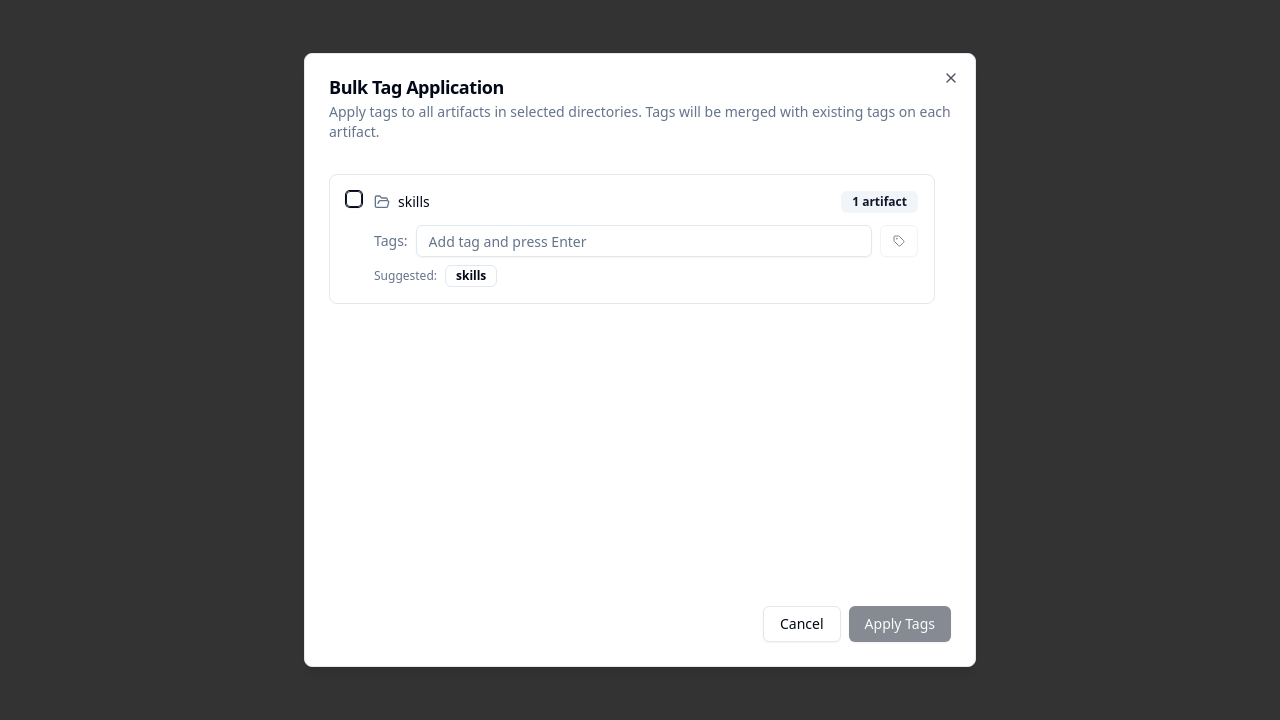
Scenario: Bulk Tag Workflow Integration › Keyboard Navigation › supports Enter key to add tags
Click the checkbox named "select skills" at (354, 199), box [346, 191, 362, 207]
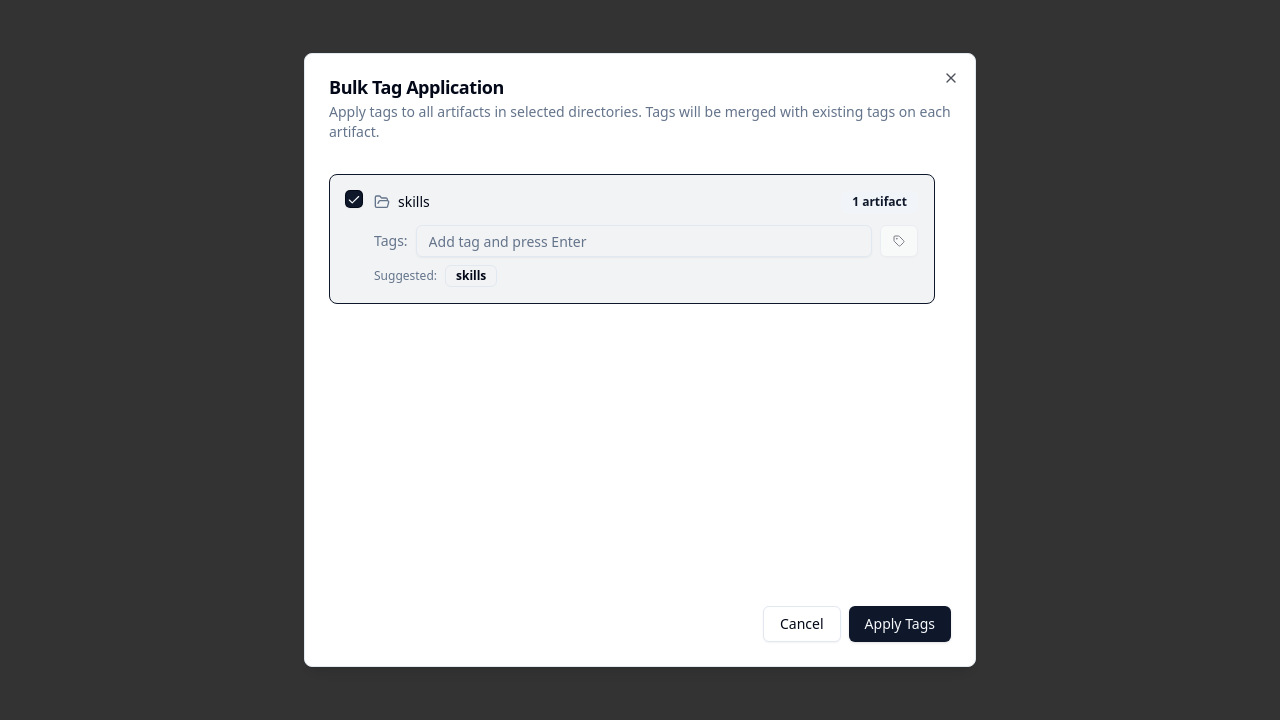
Type "keyboard-tag" into the field with placeholder "Add tag and press Enter" at (644, 241), box [416, 225, 872, 257]
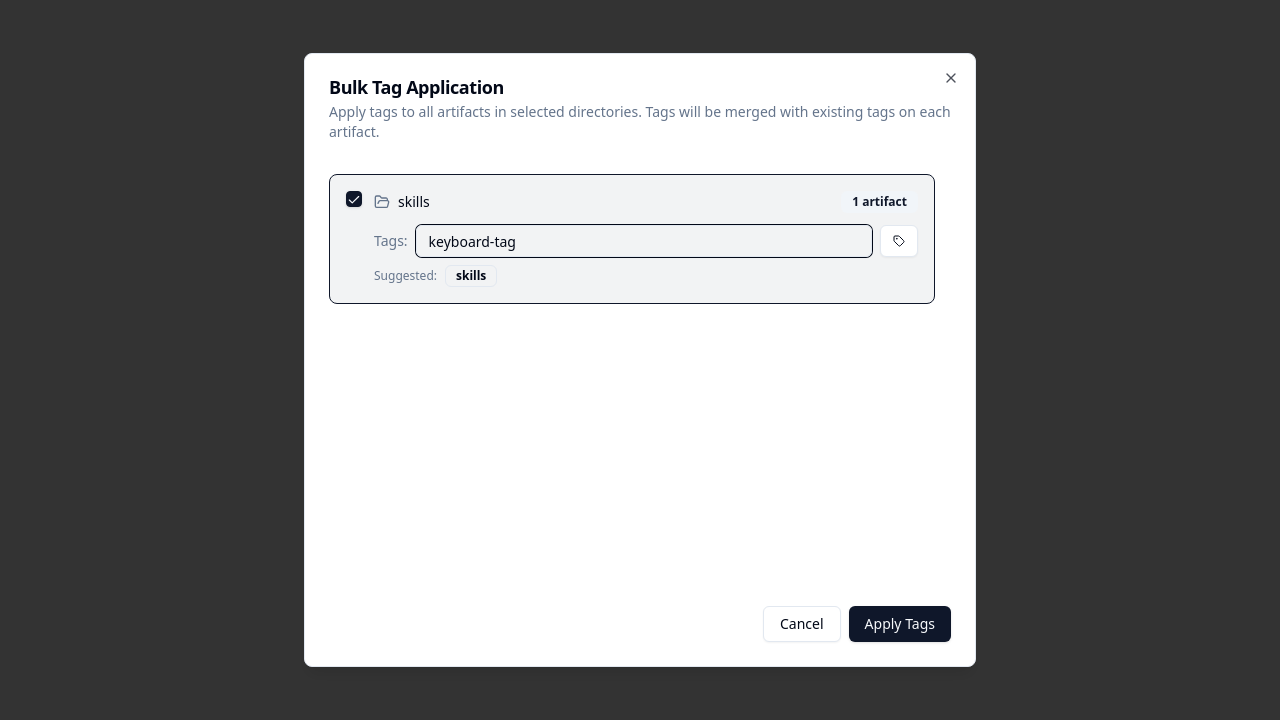
Press Enter
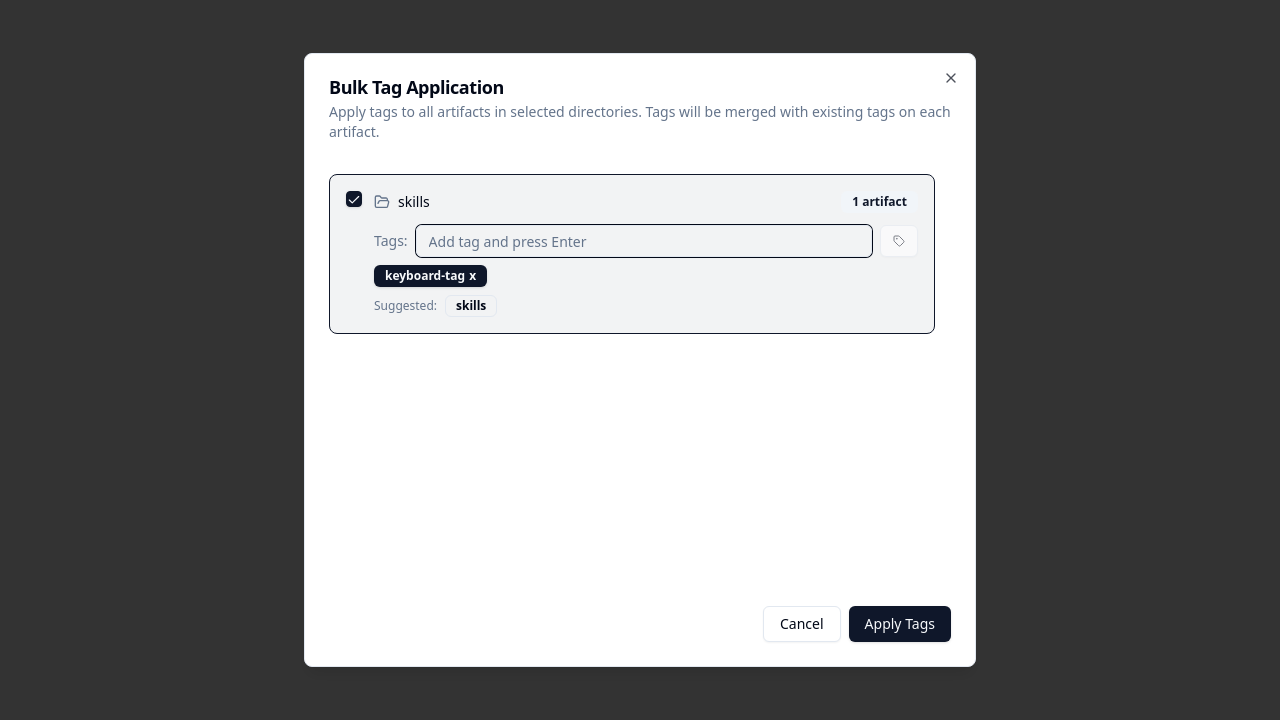
Now the list item "keyboard-tag" is shown, box [385, 267, 465, 284]
